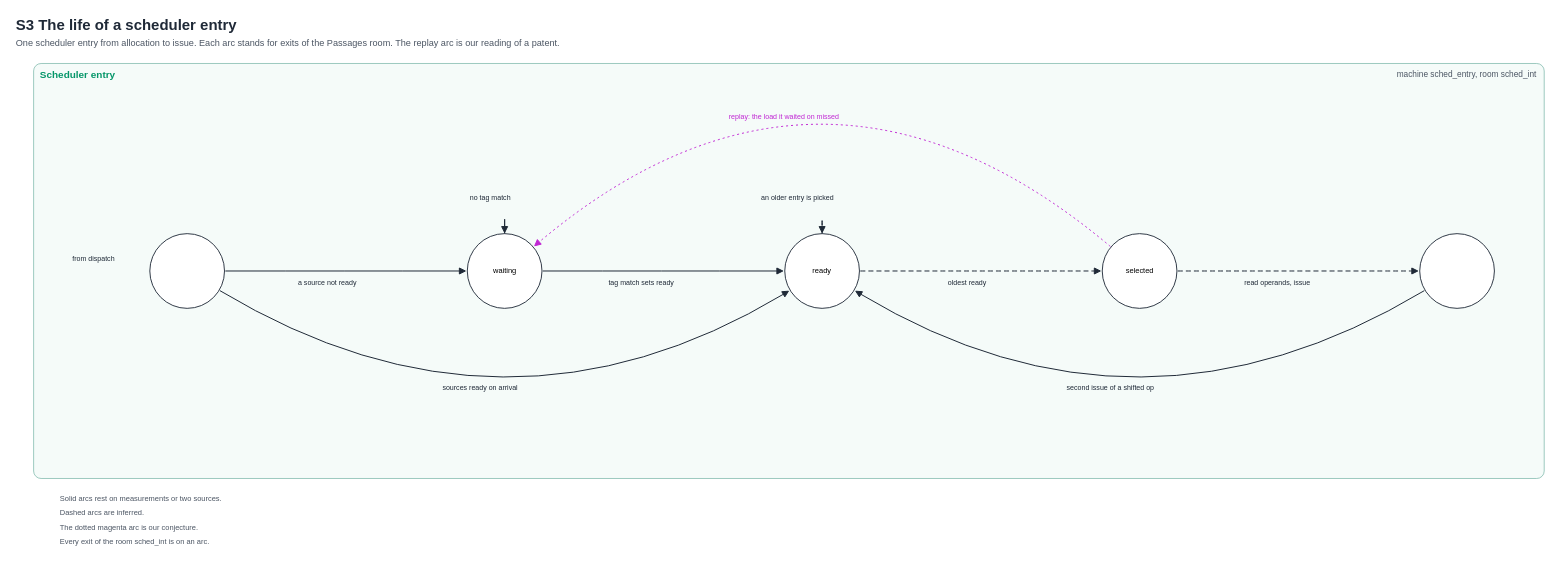
Image size: 1559x564. Some labels were removed from this diagram. Each missing label, with the box of its shape:
allocated: (149, 233, 225, 308)
issued: (1419, 233, 1494, 308)
